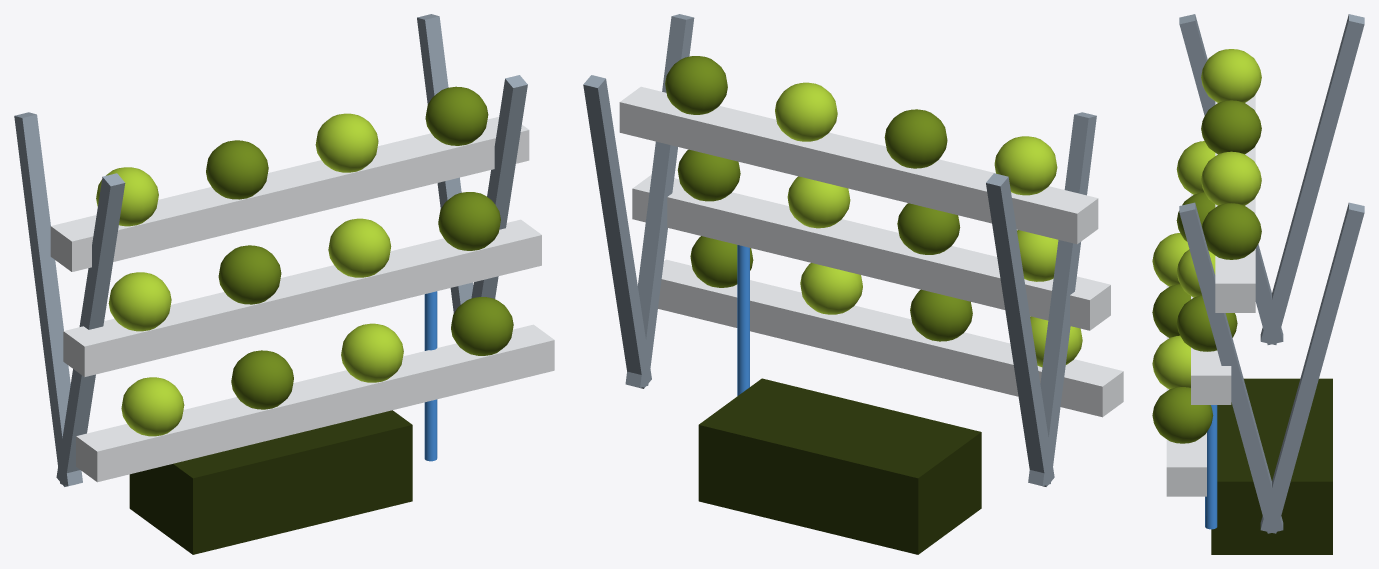
The model's file is agr-hydroponic-nft.glb.
3 views of the same model, side by side, from view 1: azimuth 30°, elevation 25°; view 2: azimuth 150°, elevation 25°; view 3: azimuth 270°, elevation 25° (orthographic). The views are drawn at different scales.
Visible parts, largest first — view 1: nutrient-tank, channel-1, channel-2, channel-3, frame-a-1, frame-b-1, frame-b-2, plant-1-1, plant-3-2, plant-2-2, plant-3-3, plant-2-1 (+9 smaller); view 2: nutrient-tank, channel-3, channel-1, channel-2, frame-a-2, frame-a-1, frame-b-1, frame-b-2, plant-3-2, plant-3-3, plant-3-4, plant-3-1 (+9 smaller); view 3: nutrient-tank, frame-a-1, frame-a-2, frame-b-2, frame-b-1, plant-3-4, plant-3-3, plant-3-2, plant-3-1, channel-3, plant-1-4, channel-1 (+9 smaller).
Boxes of the visible parts, left/top/right/bottom form: nutrient-tank: left=129, top=410, right=412, bottom=554; channel-1: left=76, top=324, right=554, bottom=482; channel-2: left=63, top=219, right=541, bottom=377; channel-3: left=50, top=117, right=529, bottom=271; frame-a-1: left=14, top=112, right=82, bottom=486; frame-b-1: left=56, top=173, right=125, bottom=486; frame-b-2: left=471, top=75, right=527, bottom=298; plant-1-1: left=121, top=377, right=184, bottom=436; plant-3-2: left=206, top=140, right=268, bottom=199; plant-2-2: left=218, top=245, right=281, bottom=304; plant-3-3: left=315, top=113, right=378, bottom=172; plant-2-1: left=108, top=272, right=171, bottom=331; nutrient-tank: left=698, top=378, right=981, bottom=554; channel-3: left=619, top=86, right=1098, bottom=244; channel-1: left=658, top=259, right=1123, bottom=417; channel-2: left=632, top=175, right=1110, bottom=330; frame-a-2: left=583, top=75, right=651, bottom=388; frame-a-1: left=986, top=173, right=1054, bottom=486; frame-b-1: left=1028, top=112, right=1096, bottom=486; frame-b-2: left=625, top=14, right=694, bottom=387; plant-3-2: left=884, top=109, right=947, bottom=168; plant-3-3: left=775, top=82, right=837, bottom=141; plant-3-4: left=665, top=56, right=727, bottom=114; plant-3-1: left=994, top=136, right=1057, bottom=195; nutrient-tank: left=1211, top=378, right=1332, bottom=554; frame-a-1: left=1260, top=14, right=1364, bottom=344; frame-a-2: left=1260, top=202, right=1364, bottom=533; frame-b-2: left=1179, top=202, right=1283, bottom=533; frame-b-1: left=1179, top=14, right=1283, bottom=344; plant-3-4: left=1202, top=203, right=1261, bottom=259; plant-3-3: left=1201, top=151, right=1261, bottom=205; plant-3-2: left=1201, top=100, right=1261, bottom=154; plant-3-1: left=1201, top=49, right=1261, bottom=102; channel-3: left=1215, top=94, right=1255, bottom=312; plant-1-4: left=1152, top=387, right=1213, bottom=443; channel-1: left=1166, top=285, right=1206, bottom=496.
Bounding box in the file's own units: 2.5 × 2.13 × 1.05.
